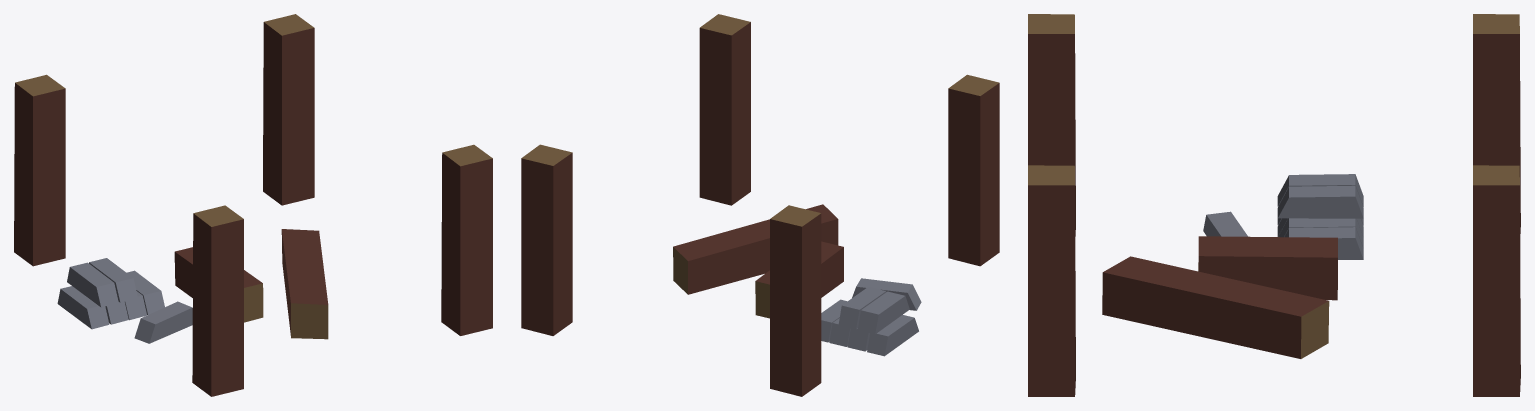
The model's file is kosciol1.fbx.
The picture shows the model from 3 angles, left to right: view 1: azimuth 30°, elevation 25°; view 2: azimuth 150°, elevation 25°; view 3: azimuth 270°, elevation 25°; orthographic projection. The views are drawn at different scales.
Parts seen in each view (by area): view 1: kosciol1; view 2: kosciol1; view 3: kosciol1.
Part boxes in pixels (bbox=[...]): kosciol1: bbox=[14, 14, 492, 396]; kosciol1: bbox=[521, 14, 999, 396]; kosciol1: bbox=[1028, 14, 1520, 396].
Bounding box in the file's own units: 797 × 433 × 906.
